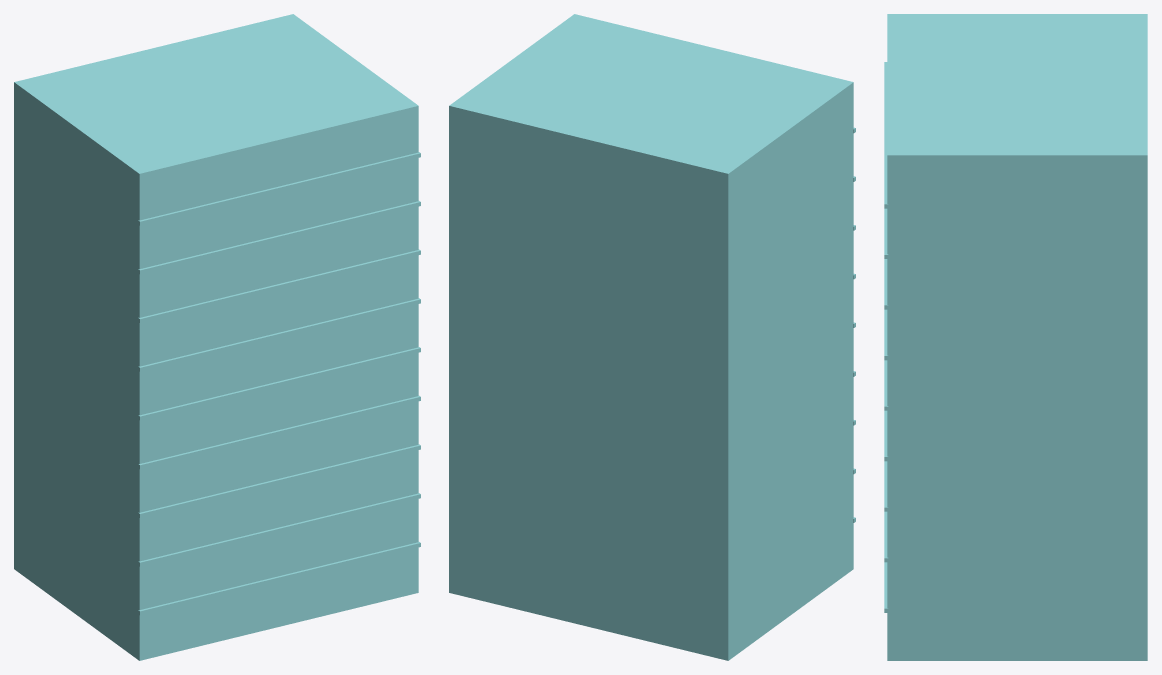
Rendered from ref_building.fbx.
The picture shows the model from 3 angles, left to right: view 1: azimuth 30°, elevation 25°; view 2: azimuth 150°, elevation 25°; view 3: azimuth 270°, elevation 25°; orthographic projection. The views are drawn at different scales.
Visible parts, largest first — view 1: ref_building; view 2: ref_building; view 3: ref_building.
Boxes of the visible parts, box(x1,y1,x2,y2) form: ref_building: box(14, 14, 420, 660); ref_building: box(449, 14, 855, 660); ref_building: box(884, 14, 1147, 660).
Bounding box in the file's own units: 18.1 × 30 × 14.15.
